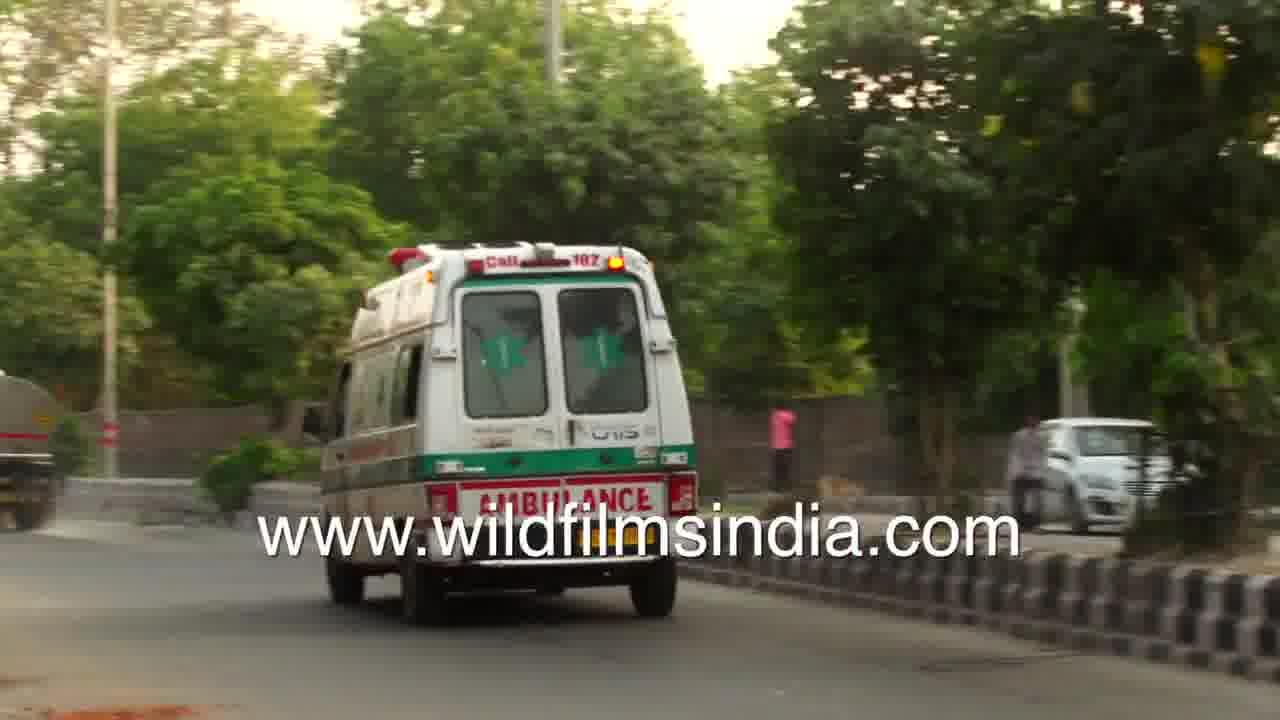AMBULANCE: (320, 220, 718, 500)
